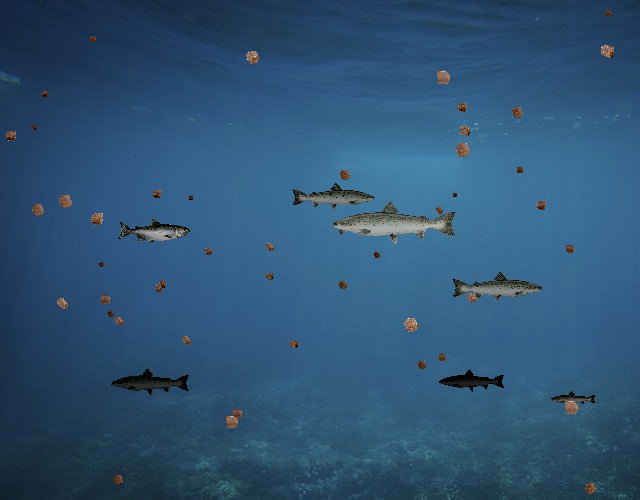Fish: (330, 199, 459, 245), (451, 271, 545, 305), (290, 181, 376, 212), (110, 368, 191, 397), (117, 219, 190, 245), (438, 368, 506, 393), (550, 391, 597, 408)
Pellet: (238, 43, 266, 71), (50, 291, 75, 316), (578, 476, 602, 500), (27, 122, 39, 134)
